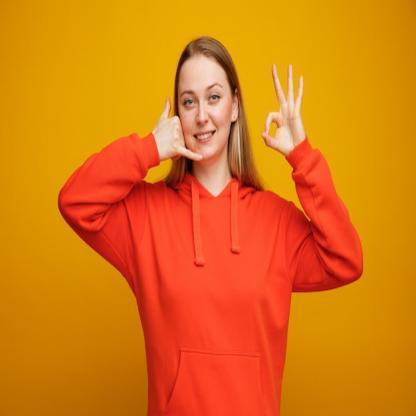ok: (262, 61, 306, 160)
